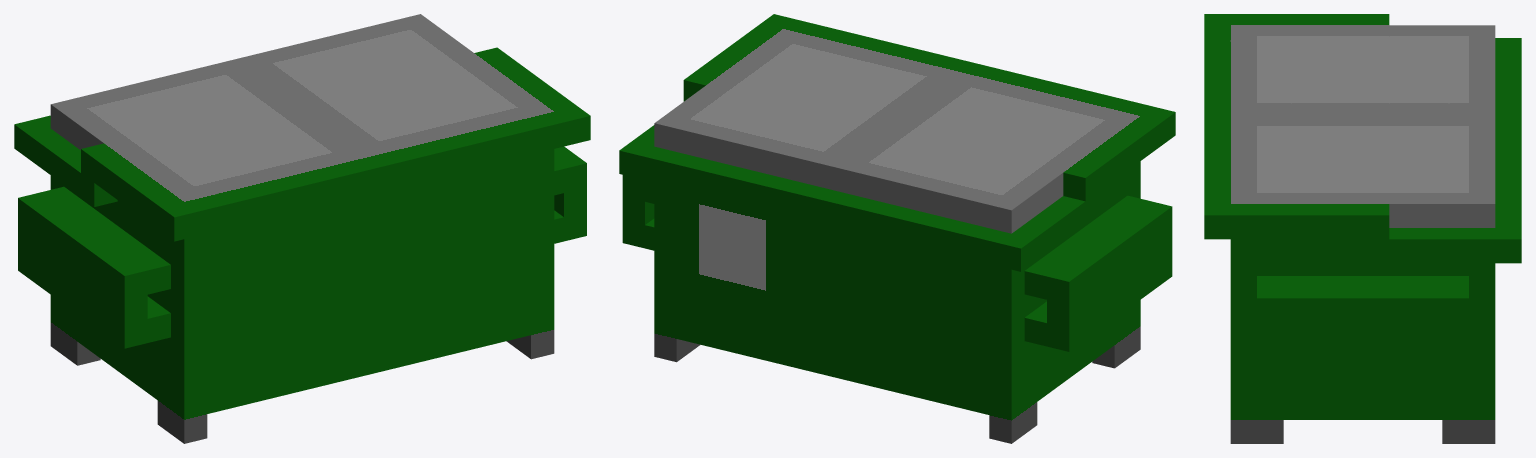
Rendered from obj_trashcan4.fbx.
3 renders of one model, left to right at view 1: azimuth 30°, elevation 25°; view 2: azimuth 150°, elevation 25°; view 3: azimuth 270°, elevation 25°, orthographic. The views are drawn at different scales.
Visible parts, largest first — view 1: obj_trashcan4; view 2: obj_trashcan4; view 3: obj_trashcan4.
Part boxes in pixels (box(x1,y1,x2,y2)): obj_trashcan4: box(14, 14, 590, 443); obj_trashcan4: box(619, 14, 1175, 443); obj_trashcan4: box(1204, 14, 1521, 443).
Size of the model in its own units: 2 by 1.2 by 1.
1 material, 1 textured.
